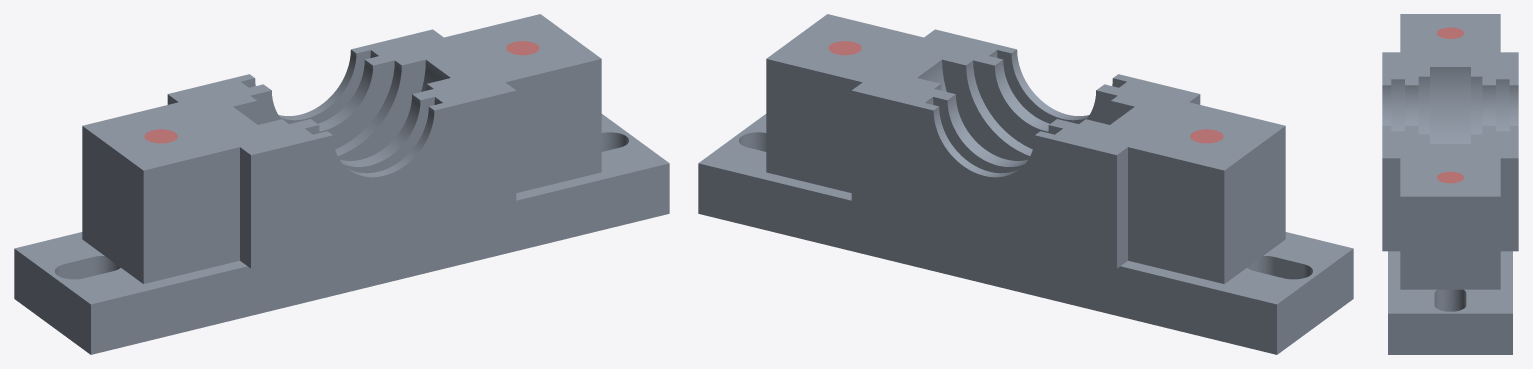
Rendered from step_05.glb.
3 views of the same model, side by side, from view 1: azimuth 30°, elevation 25°; view 2: azimuth 150°, elevation 25°; view 3: azimuth 270°, elevation 25° (orthographic). The views are drawn at different scales.
Visible parts, largest first — view 1: part__housing base, removed__housing base; view 2: part__housing base, removed__housing base; view 3: part__housing base, removed__housing base.
Boxes of the visible parts, bbox=[...] form: part__housing base: bbox=[14, 14, 669, 354]; removed__housing base: bbox=[144, 41, 539, 143]; part__housing base: bbox=[698, 14, 1353, 354]; removed__housing base: bbox=[828, 41, 1223, 143]; part__housing base: bbox=[1382, 14, 1518, 354]; removed__housing base: bbox=[1437, 27, 1463, 183].
Bounding box in the file's own units: 240 × 65 × 60.
